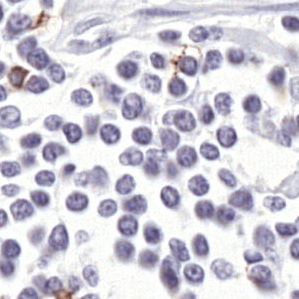Lymphocyte: (8, 64, 29, 88)
